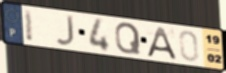0: (178, 29, 200, 63)
4: (87, 16, 111, 54)
A: (145, 26, 178, 61)
I: (23, 8, 35, 43)
J: (54, 15, 76, 48)
Q: (114, 21, 143, 55)
